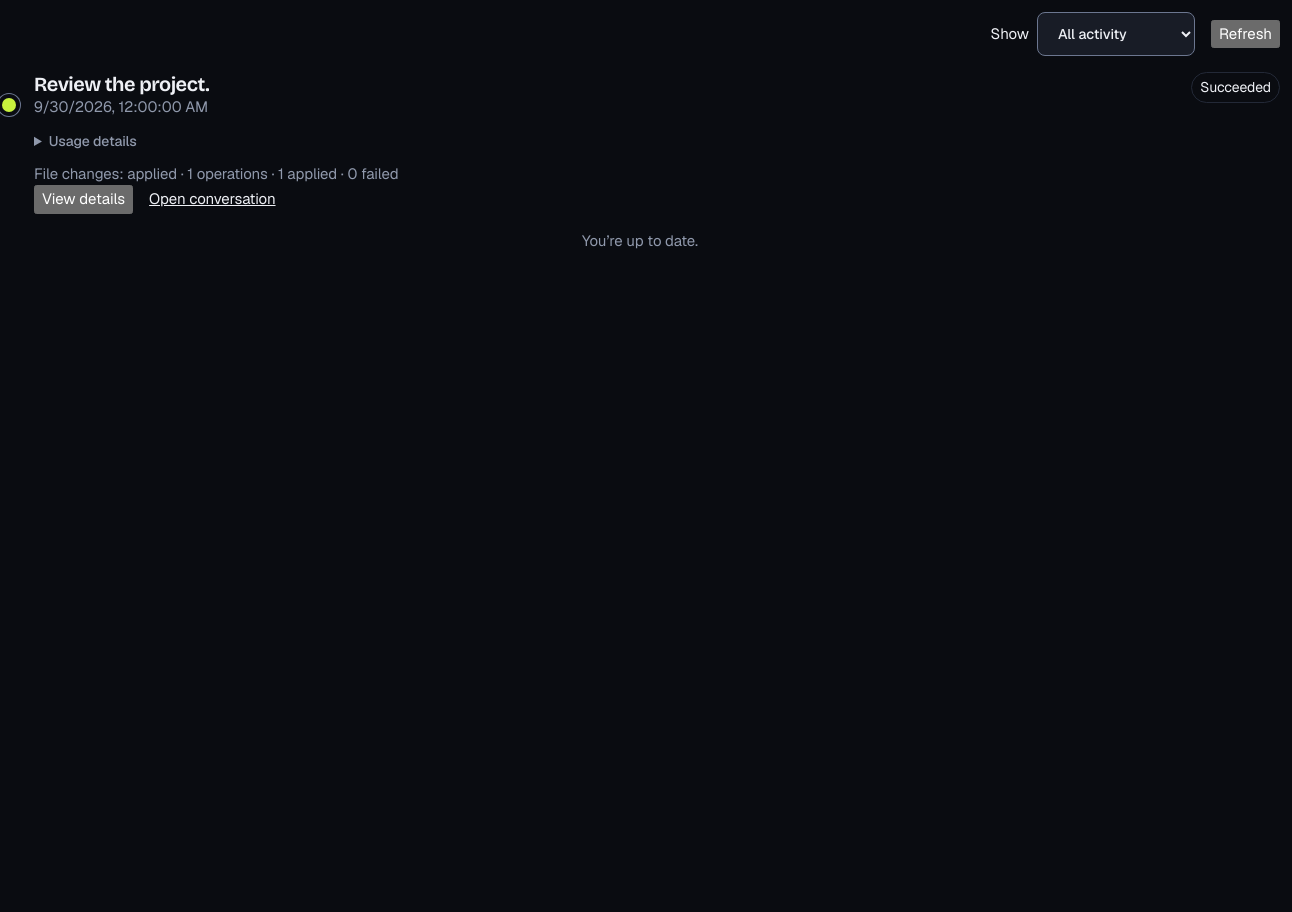
Scenario: ProjectActivityPanel › shows estimates separately from partial provider usage and expands safe detail
Expected: the heading "Review the project." is shown, top-left (34, 72), bottom-right (209, 96)
Click the button "View details" at (84, 199), box top-left (34, 185), bottom-right (133, 214)
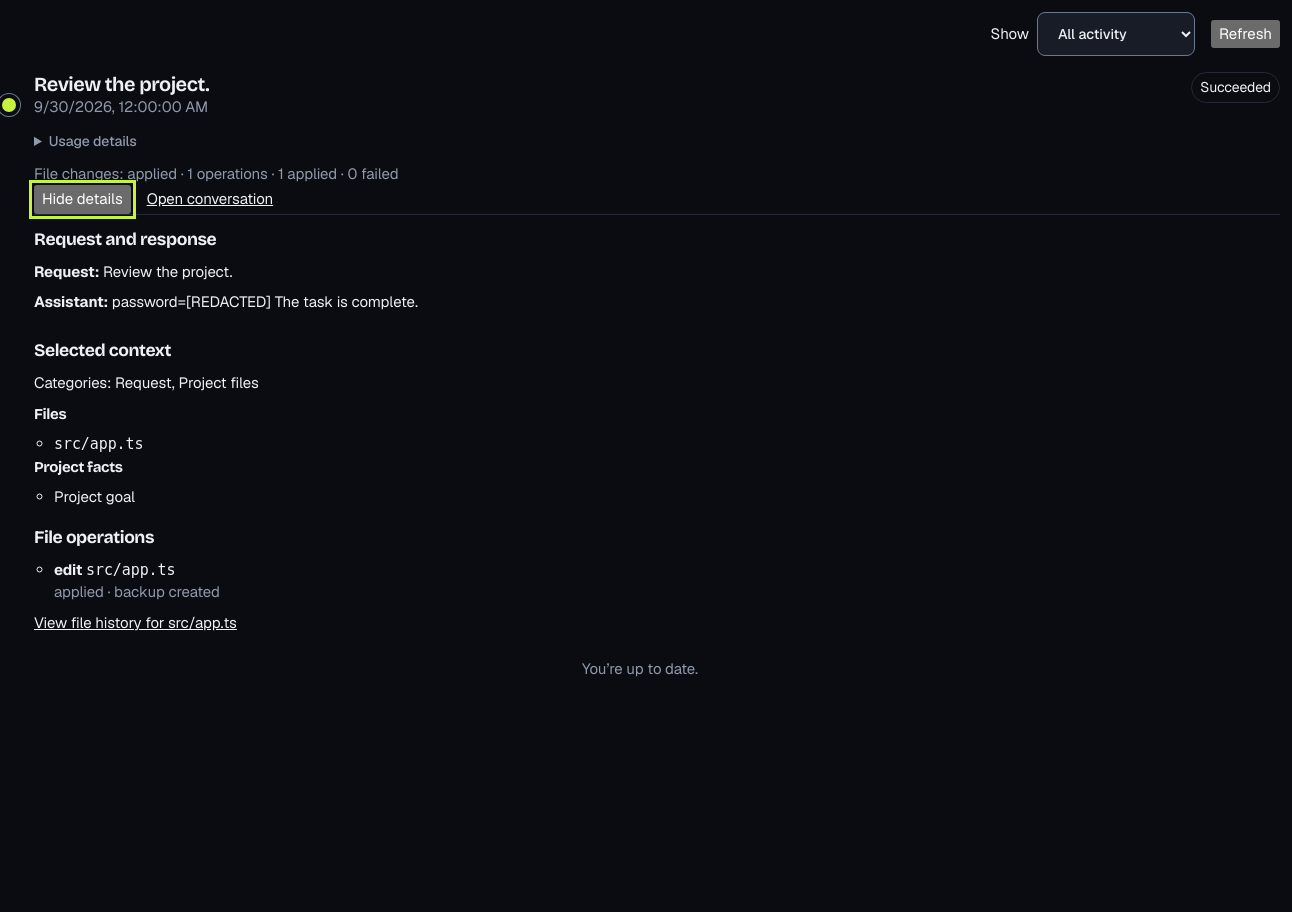
Expected: the text "password=[REDACTED] The task is complete." is shown, top-left (112, 292), bottom-right (418, 311)
Expected: the text "src/app.ts" is shown 2 times, top-left (54, 435), bottom-right (143, 453); top-left (86, 561), bottom-right (175, 579)
Expected: the text "applied · backup created" is shown, top-left (54, 582), bottom-right (220, 601)
